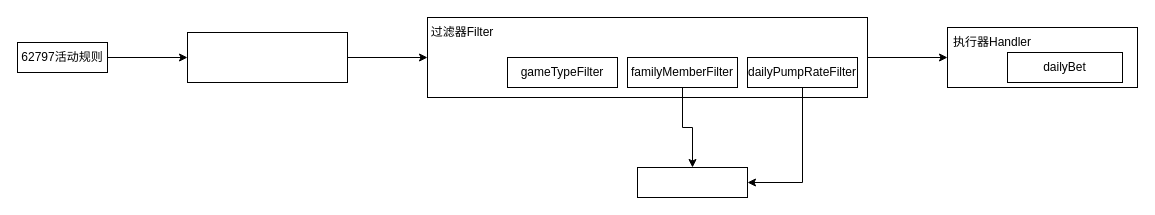
The diagram is 1155 pixels wide and 215 high, and some of its shapes have lost their labels. The centre of each missing label's shape, as x and y in pixels:
"业务基础数据" belongs at pixel 692 182.
"选择器Selector （过滤活动时间状态）" belongs at pixel 267 57.
